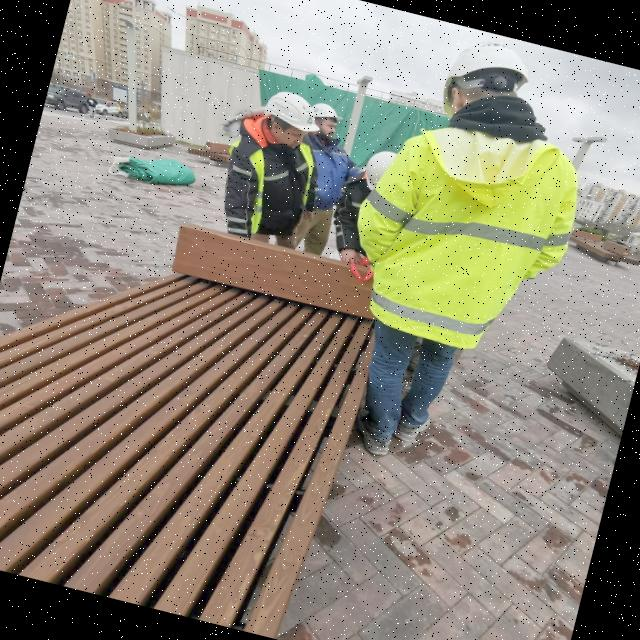Helmet: (443, 34, 534, 112), (262, 88, 327, 139), (361, 151, 397, 192), (311, 105, 342, 131)
Jacket: (371, 115, 562, 355), (220, 131, 321, 244)
NoJacket: (303, 130, 353, 206)
